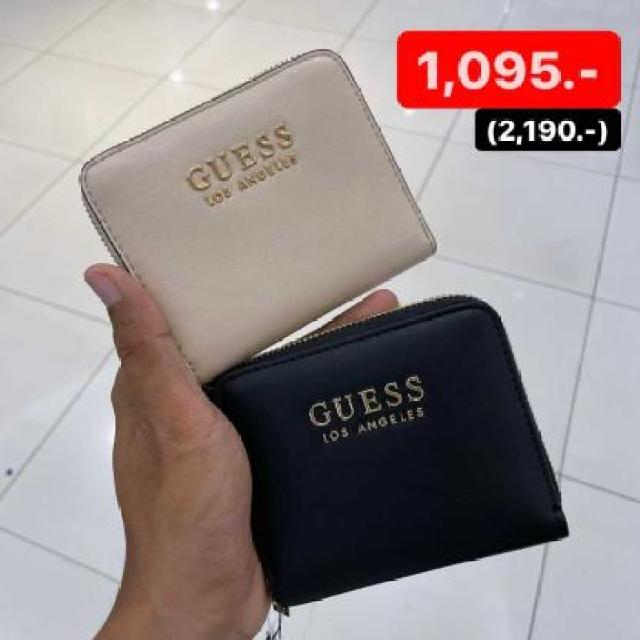Bag: (0, 42, 458, 388), (160, 284, 574, 608)
